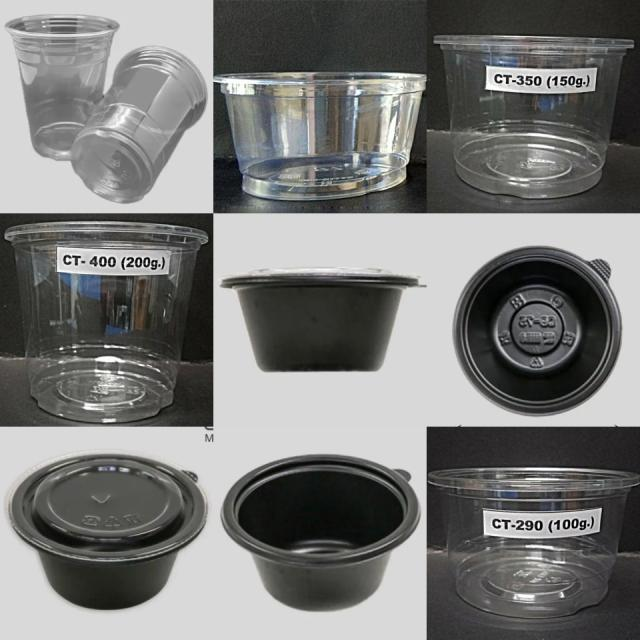Single-Use-Plastic: (5, 221, 208, 422), (435, 36, 634, 199), (428, 468, 639, 619), (8, 454, 208, 609), (221, 455, 420, 610), (454, 246, 621, 415), (214, 72, 426, 199), (71, 46, 208, 202), (221, 268, 418, 371), (5, 15, 119, 160)
